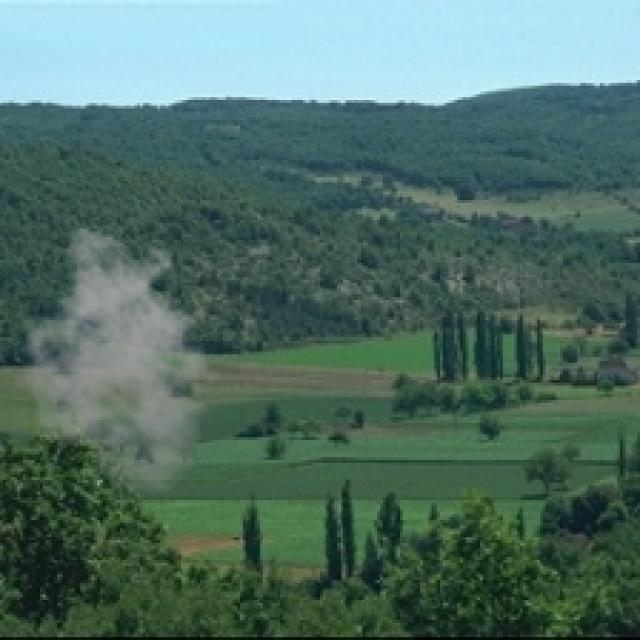smoke: (12, 226, 232, 497)
